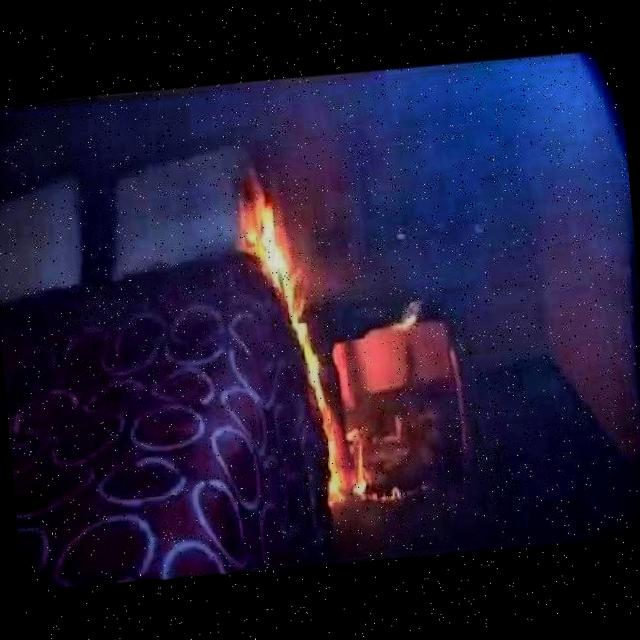fire: (213, 156, 413, 529)
